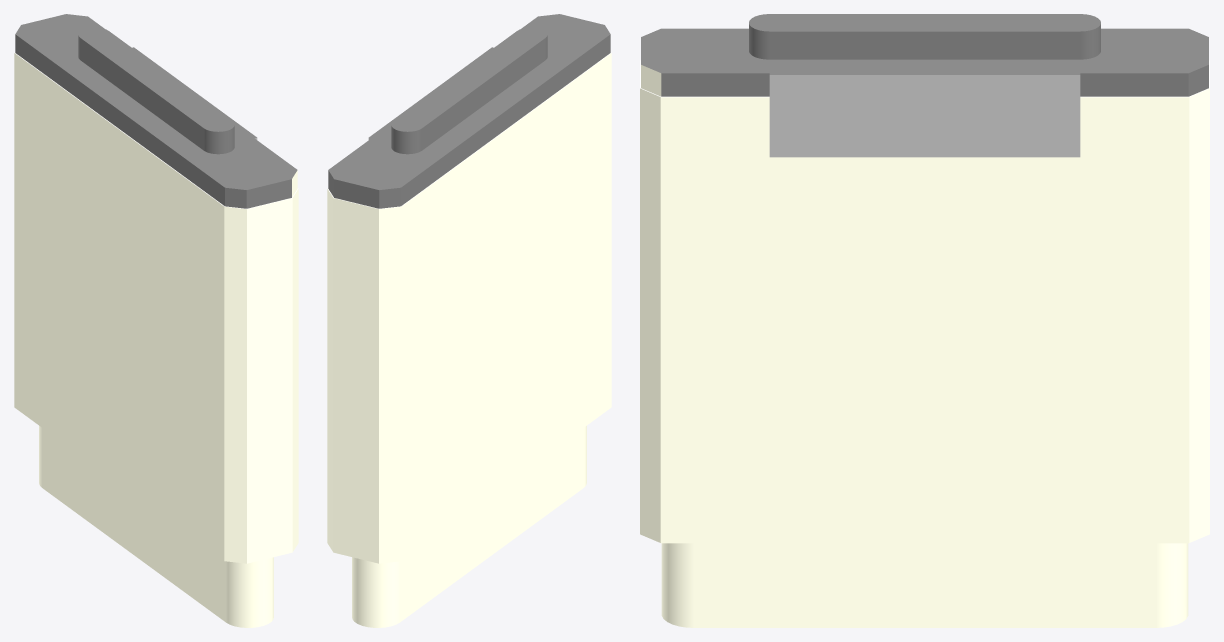
The model's file is RGT_VESSEL_100ml.gltf.
The picture shows the model from 3 angles, left to right: view 1: azimuth 30°, elevation 25°; view 2: azimuth 150°, elevation 25°; view 3: azimuth 270°, elevation 25°; orthographic projection. The views are drawn at different scales.
Visible parts, largest first — view 1: Frm61, Poly_Geom_Data; view 2: Frm61, Poly_Geom_Data; view 3: Frm61, Poly_Geom_Data, Frm57.
Part boxes in pixels (bbox=[...]): Frm61: bbox=[14, 52, 298, 627]; Poly_Geom_Data: bbox=[15, 14, 297, 208]; Frm61: bbox=[327, 52, 611, 627]; Poly_Geom_Data: bbox=[328, 14, 610, 208]; Frm61: bbox=[640, 60, 1209, 627]; Poly_Geom_Data: bbox=[641, 14, 1208, 96]; Frm57: bbox=[769, 75, 1080, 157].
Bounding box in the file's own units: 21.4 × 126 × 110.
